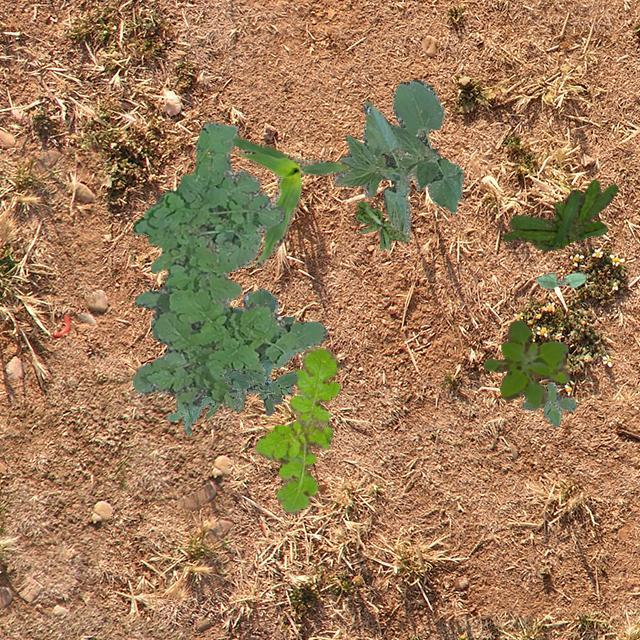crop: (332, 78, 462, 240), (232, 134, 346, 266), (242, 288, 294, 376), (534, 272, 586, 288)
weed: (132, 120, 326, 410), (253, 344, 339, 514), (501, 178, 616, 252), (482, 319, 568, 406), (222, 368, 296, 414), (356, 200, 406, 250), (520, 382, 576, 426), (166, 392, 220, 434)
